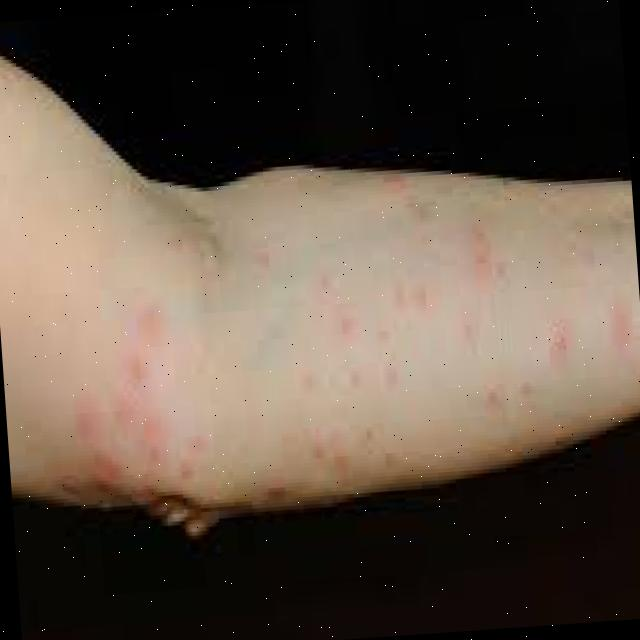kan emici bocekler: (118, 349, 161, 404), (137, 303, 171, 356), (77, 404, 107, 452), (138, 407, 166, 456), (545, 318, 569, 364)
